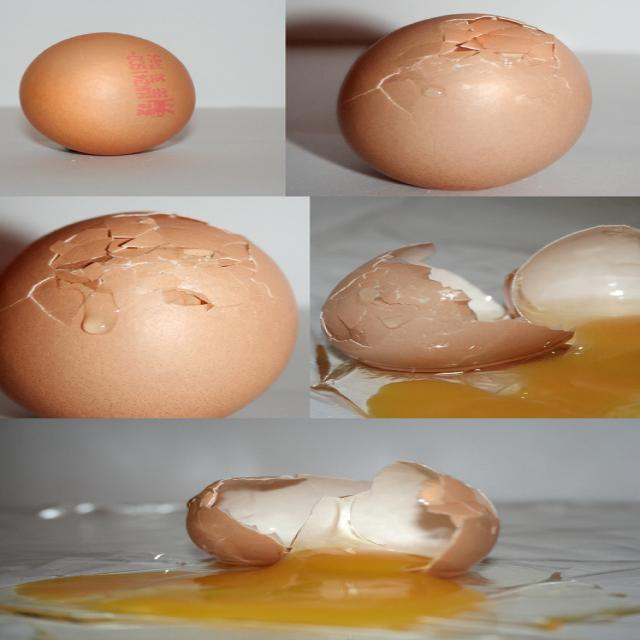Egg: (0, 460, 639, 640), (0, 209, 303, 421), (319, 223, 639, 417), (336, 11, 597, 193), (16, 31, 193, 157)
